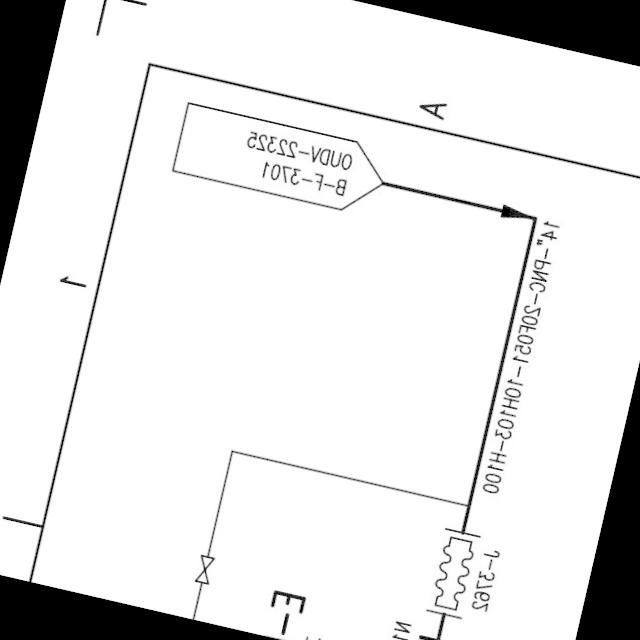EJ: (419, 522, 486, 624)
GV: (188, 548, 219, 588)
